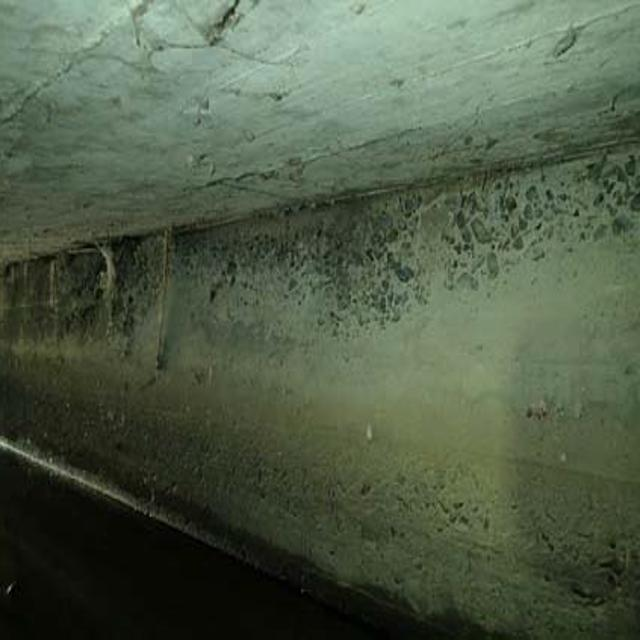spalling: (41, 134, 632, 314)
